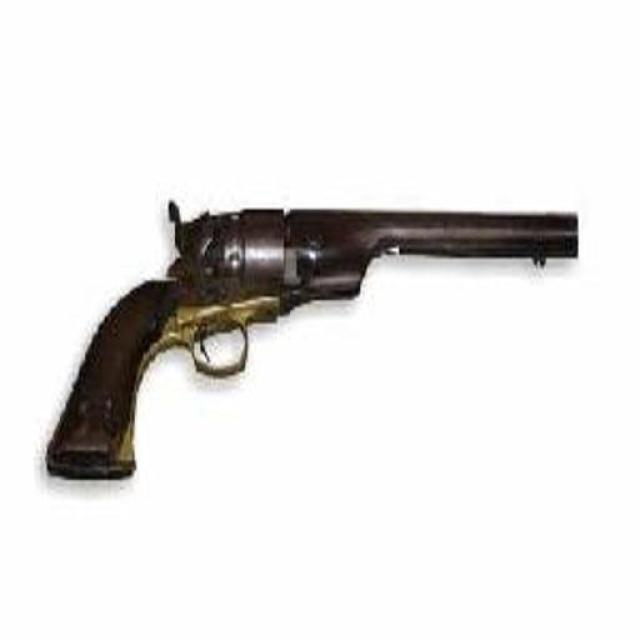pistol: (43, 192, 578, 482)
